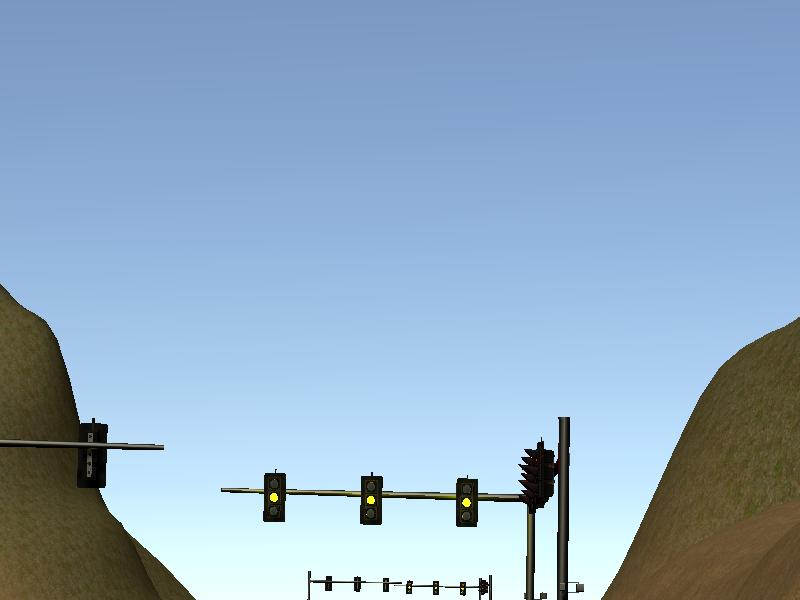Yellow: (263, 473, 286, 522), (362, 475, 384, 525), (455, 478, 476, 528)
